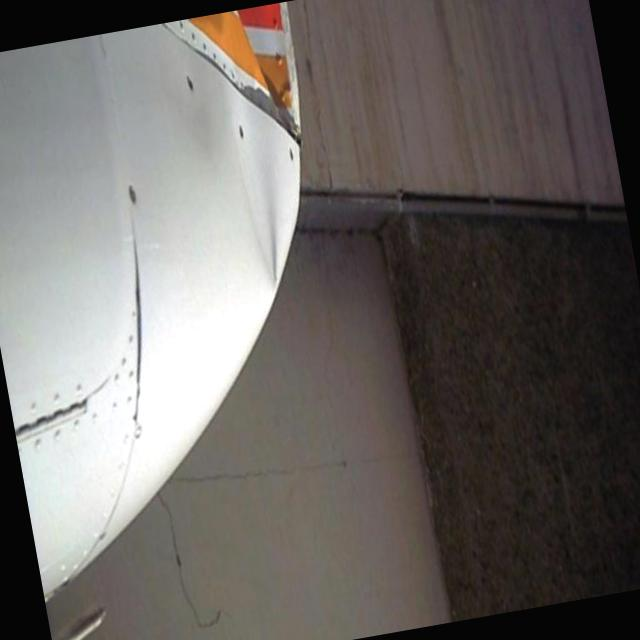dent: (212, 2, 342, 290)
